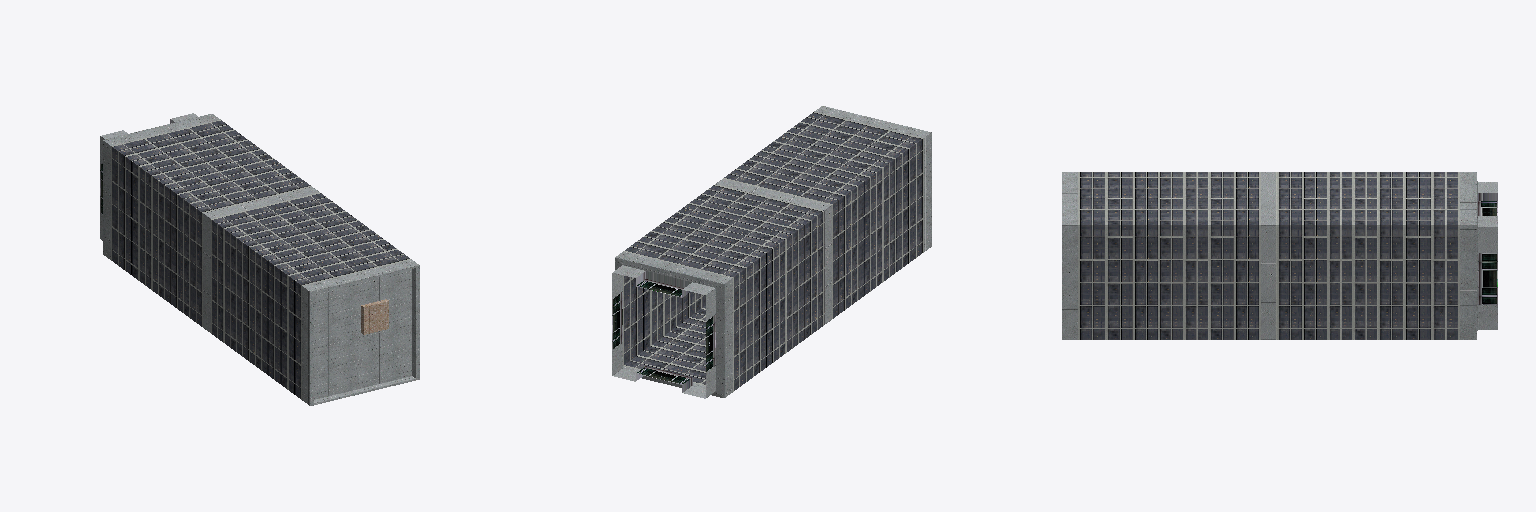
The picture shows the model from 3 angles: view 1: azimuth 30°, elevation 25°; view 2: azimuth 150°, elevation 25°; view 3: azimuth 270°, elevation 25°; orthographic projection.
Visible parts, largest first — view 1: Zone_4x4_SeaWall_C_07; view 2: Zone_4x4_SeaWall_C_07; view 3: Zone_4x4_SeaWall_C_07.
Boxes of the visible parts, x1,y1,x2,y2 form: Zone_4x4_SeaWall_C_07: [100, 113, 419, 405]; Zone_4x4_SeaWall_C_07: [612, 106, 931, 398]; Zone_4x4_SeaWall_C_07: [1062, 172, 1497, 339].
Size of the model in its own units: 40 by 40 by 138.
4 materials, 4 textured.